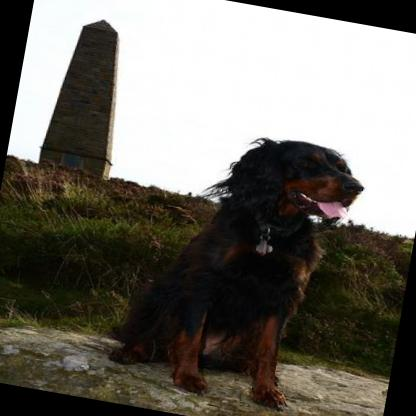Gordon_setter: (99, 111, 368, 416)
